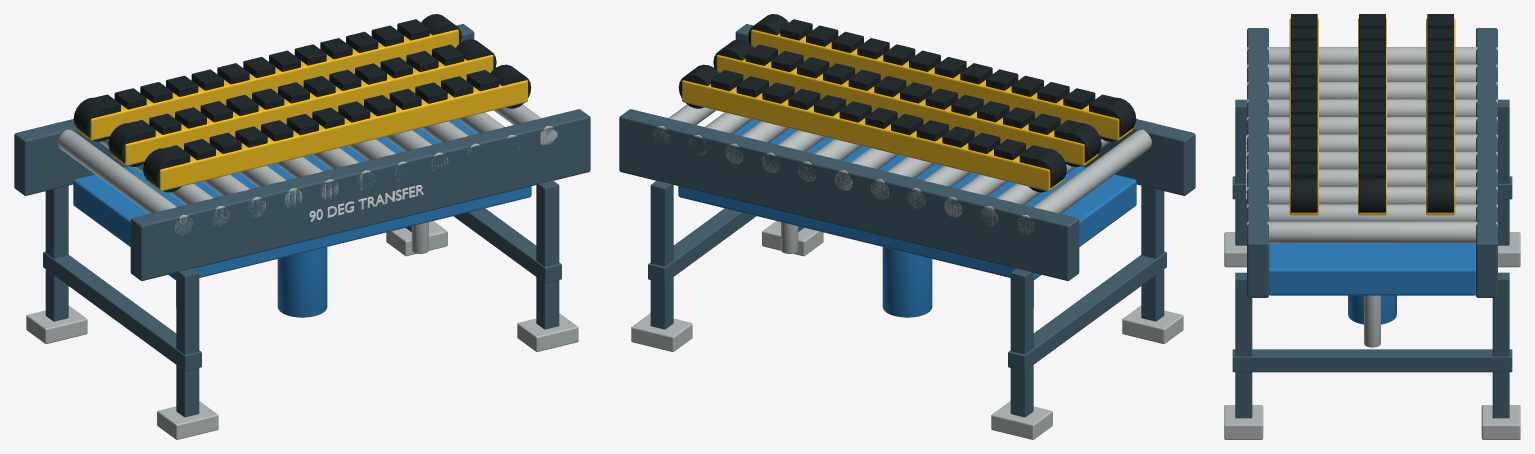
Rendered from popup_chain_transfer.glb.
3 views of the same model, side by side, from view 1: azimuth 30°, elevation 25°; view 2: azimuth 150°, elevation 25°; view 3: azimuth 270°, elevation 25° (orthographic).
Visible parts, largest first — view 1: ROLLER_SIDE_-0.47, KIN_POPUP_CHAIN_-0.28, LIFT_FRAME, KIN_POPUP_CHAIN_0.28, KIN_POPUP_CHAIN_0, CROSS_-0.8400000000000001, ROLLER_SIDE_0.47, KIN_LIFT_CYLINDER, LEG_-0.8400000000000001_-0.529, LEG_0.8400000000000001_-0.529, ROLLER_0, LEG_-0.8400000000000001_0.529 (+21 smaller); view 2: ROLLER_SIDE_0.47, KIN_POPUP_CHAIN_0.28, LIFT_FRAME, KIN_POPUP_CHAIN_-0.28, KIN_POPUP_CHAIN_0, CROSS_-0.8400000000000001, ROLLER_SIDE_-0.47, KIN_LIFT_CYLINDER, LEG_-0.8400000000000001_0.529, LEG_0.8400000000000001_0.529, ROLLER_0, LEG_-0.8400000000000001_-0.529 (+20 smaller); view 3: LIFT_FRAME, CROSS_0.8400000000000001, ROLLER_SIDE_0.47, ROLLER_SIDE_-0.47, ROLLER_10, ROLLER_9, ROLLER_6, ROLLER_8, LEG_0.8400000000000001_0.529, LEG_0.8400000000000001_-0.529, ROLLER_0, ROLLER_1 (+59 smaller).
Boxes of the visible parts, x1,y1,x2,y2 form: ROLLER_SIDE_-0.47: (130,109,590,280); KIN_POPUP_CHAIN_-0.28: (146,80,527,191); LIFT_FRAME: (73,119,531,280); KIN_POPUP_CHAIN_0.28: (77,29,458,140); KIN_POPUP_CHAIN_0: (111,55,493,165); CROSS_-0.8400000000000001: (43,251,201,371); ROLLER_SIDE_0.47: (14,24,474,195); KIN_LIFT_CYLINDER: (277,247,327,317); LEG_-0.8400000000000001_-0.529: (176,268,199,417); LEG_0.8400000000000001_-0.529: (536,180,559,329); ROLLER_0: (55,122,193,235); LEG_-0.8400000000000001_0.529: (45,185,68,321); ROLLER_SIDE_0.47: (619,109,1079,280); KIN_POPUP_CHAIN_0.28: (682,80,1063,191); LIFT_FRAME: (678,119,1136,280); KIN_POPUP_CHAIN_-0.28: (751,29,1132,140); KIN_POPUP_CHAIN_0: (716,55,1098,165); CROSS_-0.8400000000000001: (1008,251,1166,371); ROLLER_SIDE_-0.47: (735,24,1195,195); KIN_LIFT_CYLINDER: (882,247,932,317); LEG_-0.8400000000000001_0.529: (1010,268,1033,417); LEG_0.8400000000000001_0.529: (650,180,673,329); ROLLER_0: (1017,122,1154,234); LEG_-0.8400000000000001_-0.529: (1141,185,1164,321); LIFT_FRAME: (1269,243,1475,295); CROSS_0.8400000000000001: (1232,349,1512,372); ROLLER_SIDE_0.47: (1476,28,1497,297); ROLLER_SIDE_-0.47: (1247,28,1268,297); ROLLER_10: (1247,221,1497,243); ROLLER_9: (1247,204,1497,221); ROLLER_6: (1247,151,1497,169); ROLLER_8: (1247,186,1497,204); LEG_0.8400000000000001_0.529: (1492,272,1509,418); LEG_0.8400000000000001_-0.529: (1235,272,1252,418); ROLLER_0: (1247,47,1497,64); ROLLER_1: (1247,64,1497,81).
Size of the model in its own units: 2.1 by 1.11 by 1.22.
